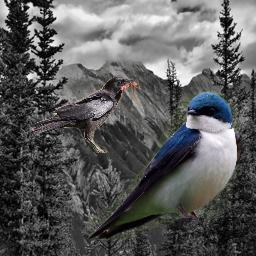Crow: (29, 74, 147, 153)
Swallow: (87, 91, 243, 242)
